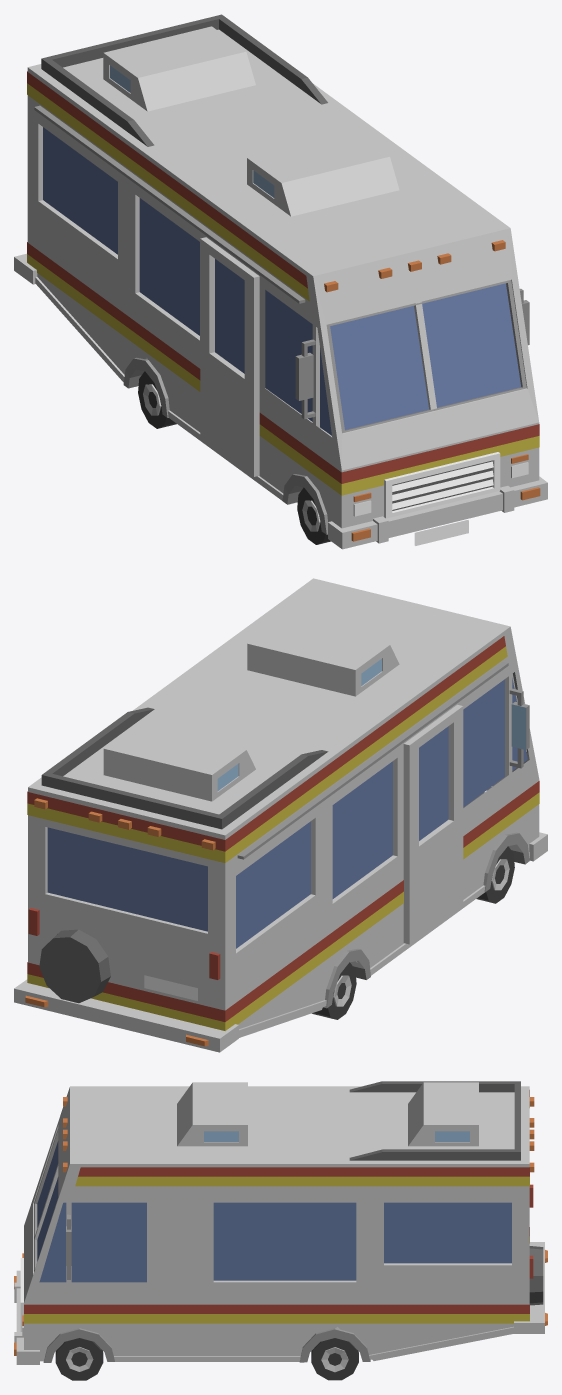
File: transport_bus_006.fbx
3 renders of one model, top to bottom at view 1: azimuth 30°, elevation 25°; view 2: azimuth 150°, elevation 25°; view 3: azimuth 270°, elevation 25°, orthographic. The views are drawn at different scales.
Parts seen in each view (by area): view 1: transport_bus_006; view 2: transport_bus_006; view 3: transport_bus_006.
Boxes of the visible parts, <box> form: transport_bus_006: <box>14,14,547,549</box>; transport_bus_006: <box>14,578,547,1052</box>; transport_bus_006: <box>14,1081,547,1380</box>.
Size of the model in its own units: 202 by 250 by 503.
